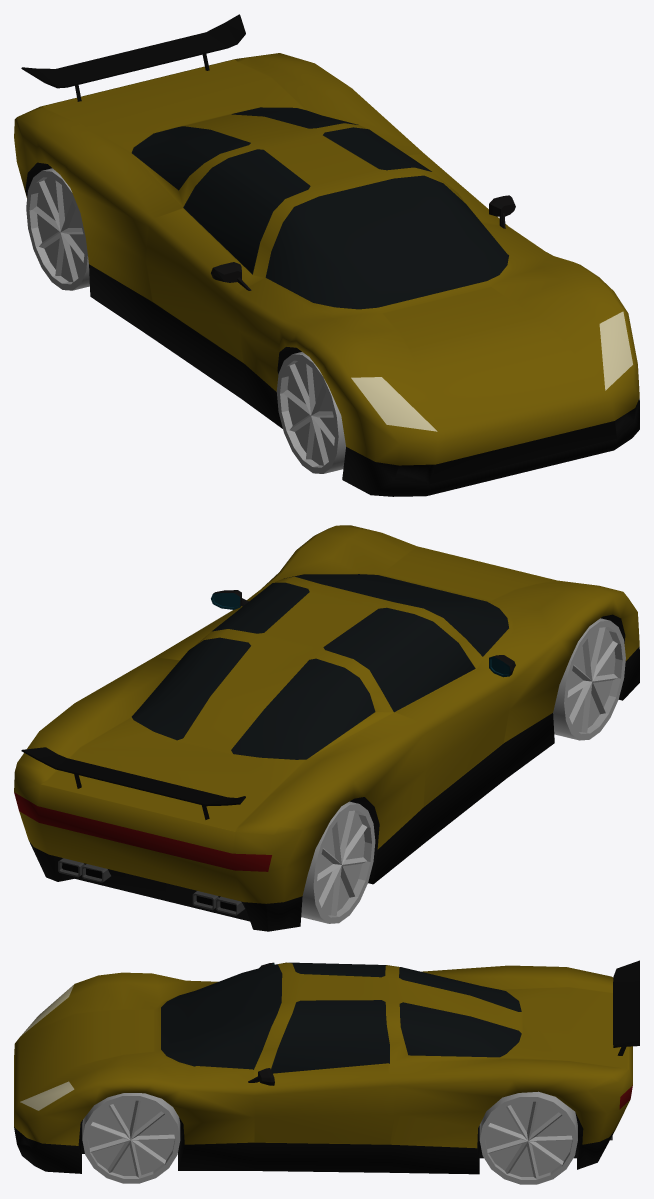
The model's file is Lowpolycar2.FBX.
3 views of the same model, one above another, from view 1: azimuth 30°, elevation 25°; view 2: azimuth 150°, elevation 25°; view 3: azimuth 270°, elevation 25° (orthographic). The views are drawn at different scales.
Parts seen in each view (by area): view 1: Object012, Cylinder057; view 2: Object012, Cylinder057; view 3: Object012, Cylinder057.
Boxes of the visible parts, left/top/right/bottom form: Object012: left=14, top=14, right=639, bottom=496; Cylinder057: left=26, top=168, right=345, bottom=473; Object012: left=14, top=525, right=639, bottom=931; Cylinder057: left=301, top=618, right=625, bottom=923; Object012: left=14, top=960, right=639, bottom=1174; Cylinder057: left=82, top=1091, right=577, bottom=1184.
Size of the model in its own units: 214 by 122 by 488.
